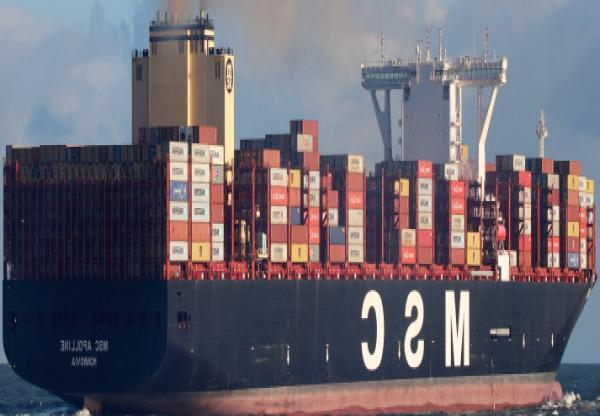Container Ship: (1, 0, 598, 414)
